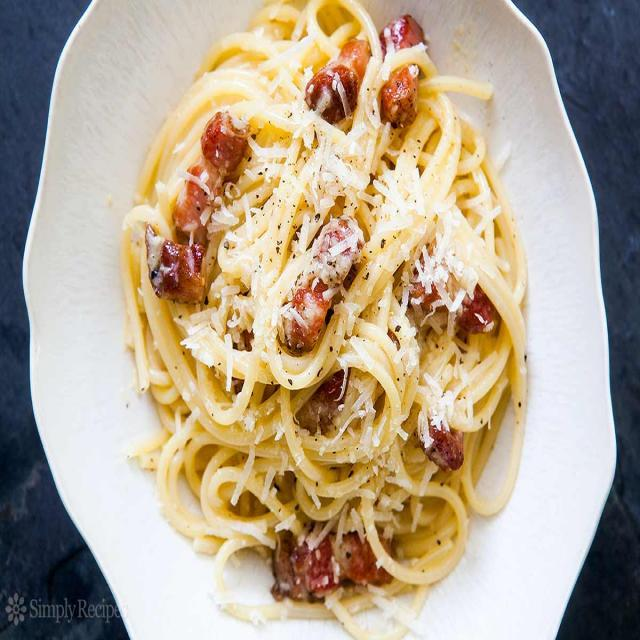Pasta with carbonara sauce: (114, 19, 570, 623)
